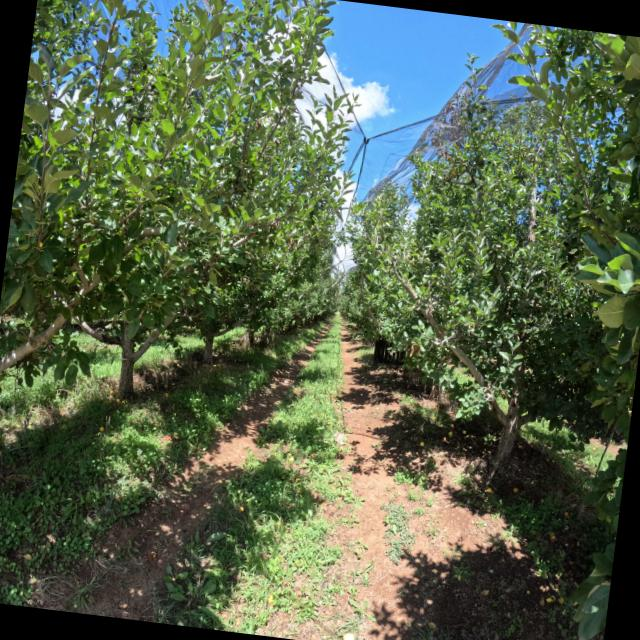-FireBlight-: (436, 147, 451, 163), (409, 342, 422, 357), (289, 239, 296, 250), (289, 233, 295, 237)
